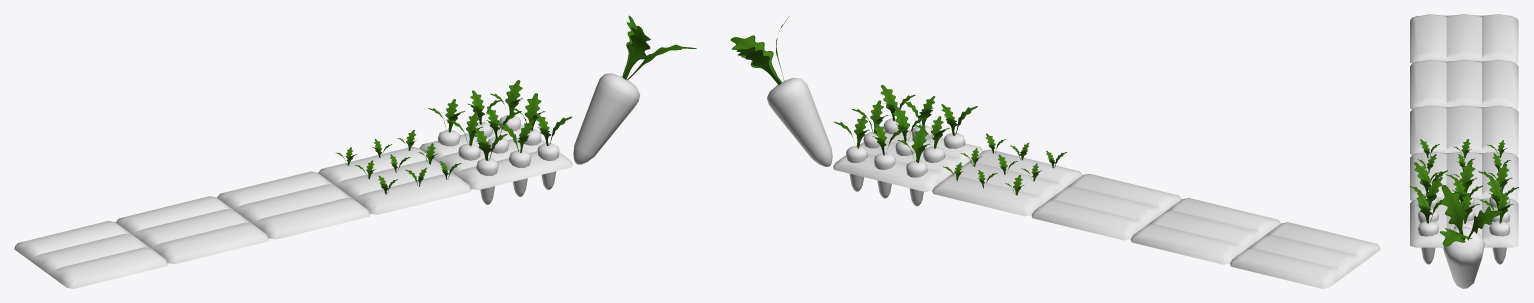
The model's file is CarrotScene.fbx.
3 views of the same model, side by side, from view 1: azimuth 30°, elevation 25°; view 2: azimuth 150°, elevation 25°; view 3: azimuth 270°, elevation 25° (orthographic). The views are drawn at different scales.
Visible parts, largest first — view 1: HP.002, HP, HP.003, HP.004, HP.001, CarrotLP.010, LeaveLP.020, CarrotLP.007, CarrotLP.009, CarrotLP.008; view 2: HP.002, HP.003, HP, HP.004, HP.001, CarrotLP.010, LeaveLP.020, CarrotLP.006, CarrotLP.004, CarrotLP.005; view 3: HP.002, HP.003, HP, HP.004, HP.001, CarrotLP.010, LeaveLP.020, CarrotLP.006, CarrotLP.009, LeaveLP.009, LeaveLP.004, LeaveLP.008 (+16 smaller).
Boxes of the visible parts, x1,y1,x2,y2 form: HP.002: (14, 221, 167, 288); HP: (217, 171, 370, 239); HP.003: (116, 196, 268, 264); HP.004: (318, 147, 471, 214); HP.001: (419, 124, 572, 190); CarrotLP.010: (573, 73, 640, 164); LeaveLP.020: (622, 15, 696, 80); CarrotLP.007: (509, 150, 531, 196); CarrotLP.009: (537, 143, 559, 189); CarrotLP.008: (476, 158, 498, 204); HP.002: (1230, 222, 1380, 288); HP.003: (1131, 198, 1280, 264); HP: (1031, 173, 1181, 240); HP.004: (932, 149, 1082, 216); HP.001: (833, 128, 982, 191); CarrotLP.010: (767, 77, 832, 166); LeaveLP.020: (730, 16, 789, 84); CarrotLP.006: (846, 145, 867, 191); CarrotLP.004: (874, 152, 895, 198); CarrotLP.005: (906, 160, 927, 206); HP.002: (1410, 14, 1518, 63); HP.003: (1410, 59, 1518, 108); HP: (1410, 105, 1518, 154); HP.004: (1410, 151, 1518, 200); HP.001: (1410, 198, 1518, 247); CarrotLP.010: (1443, 226, 1484, 288); LeaveLP.020: (1439, 185, 1501, 246); CarrotLP.006: (1489, 221, 1510, 264); CarrotLP.009: (1418, 221, 1438, 264); LeaveLP.009: (1414, 162, 1447, 192); LeaveLP.004: (1445, 161, 1476, 194); LeaveLP.008: (1409, 177, 1442, 208).
Size of the model in its own units: 1281 by 257 by 204.
